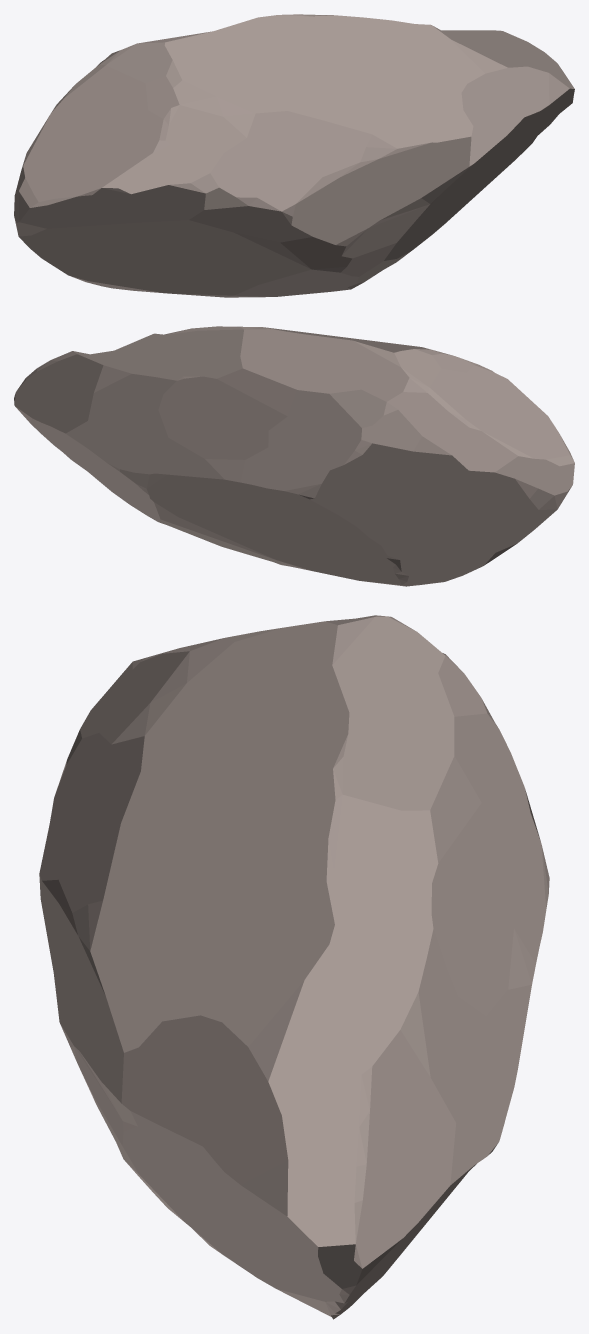
Rendered from Rochas2.fbx.
3 views of the same model, one above another, from view 1: azimuth 30°, elevation 25°; view 2: azimuth 150°, elevation 25°; view 3: azimuth 270°, elevation 25° (orthographic). The views are drawn at different scales.
Visible parts, largest first — view 1: Cube.016; view 2: Cube.016; view 3: Cube.016.
Part boxes in pixels (box(x1,y1,x2,y2)): Cube.016: box(14, 14, 574, 297); Cube.016: box(14, 326, 574, 586); Cube.016: box(39, 615, 549, 1319).
Size of the model in its own units: 288 by 120 by 119.
